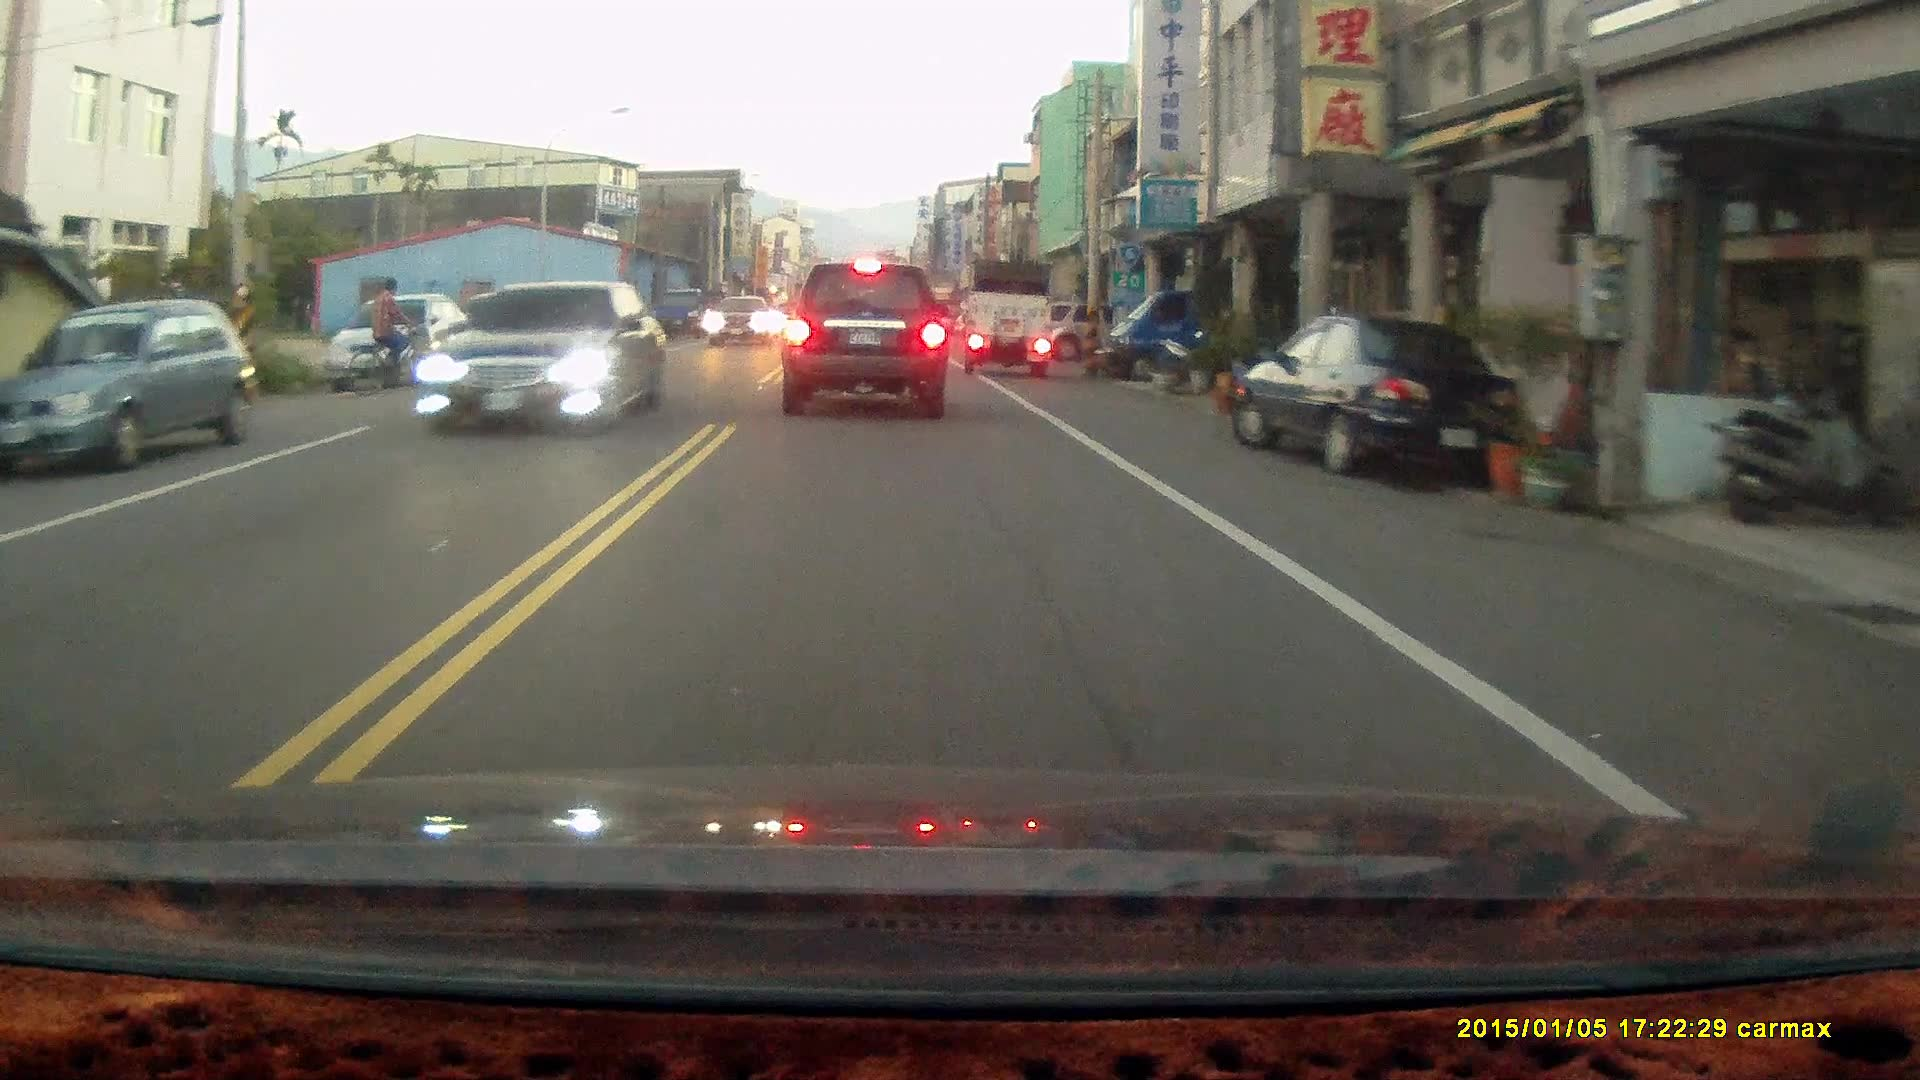rider: (343, 276, 439, 396)
vehicle: (1229, 314, 1523, 480), (6, 303, 251, 475), (409, 282, 676, 436), (784, 263, 949, 421), (322, 296, 492, 396), (1096, 272, 1244, 383), (961, 258, 1055, 374), (709, 299, 781, 348)
